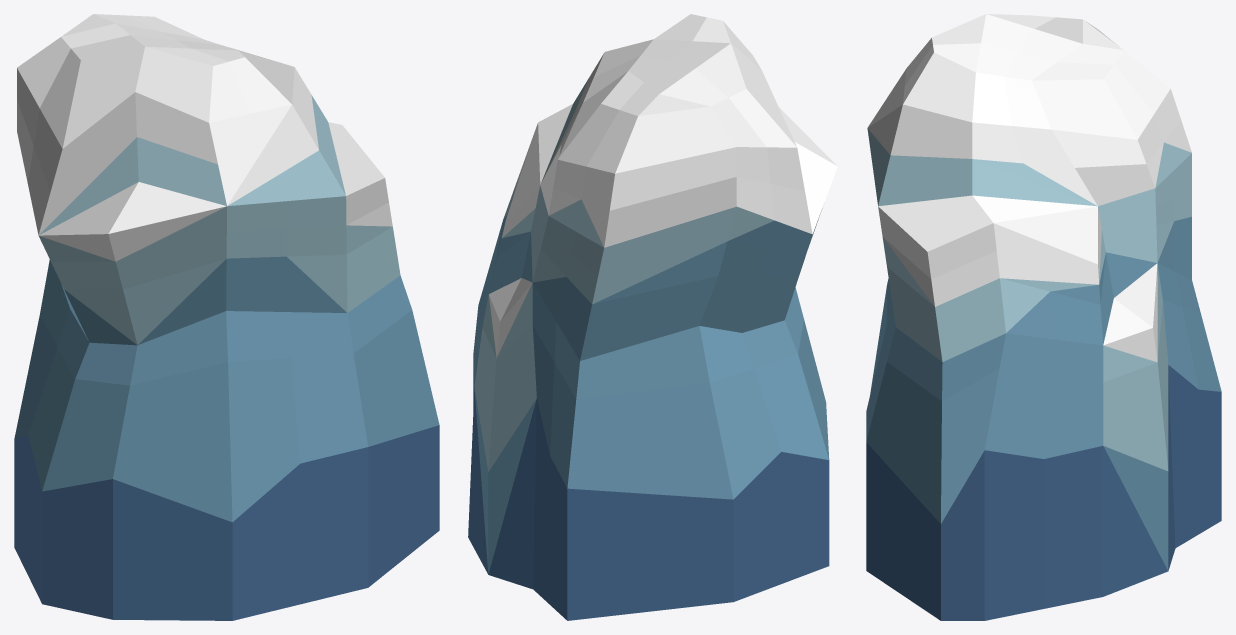
Rendered from rockLarge1.fbx.
3 views of the same model, side by side, from view 1: azimuth 30°, elevation 25°; view 2: azimuth 150°, elevation 25°; view 3: azimuth 270°, elevation 25° (orthographic). The views are drawn at different scales.
Visible parts, largest first — view 1: mesh; view 2: mesh; view 3: mesh.
Boxes of the visible parts, bbox=[...] form: mesh: bbox=[14, 14, 439, 620]; mesh: bbox=[468, 14, 837, 620]; mesh: bbox=[866, 14, 1221, 620].
Size of the model in its own units: 624 by 849 by 562.
Materials: 1 (1 with a texture image).
